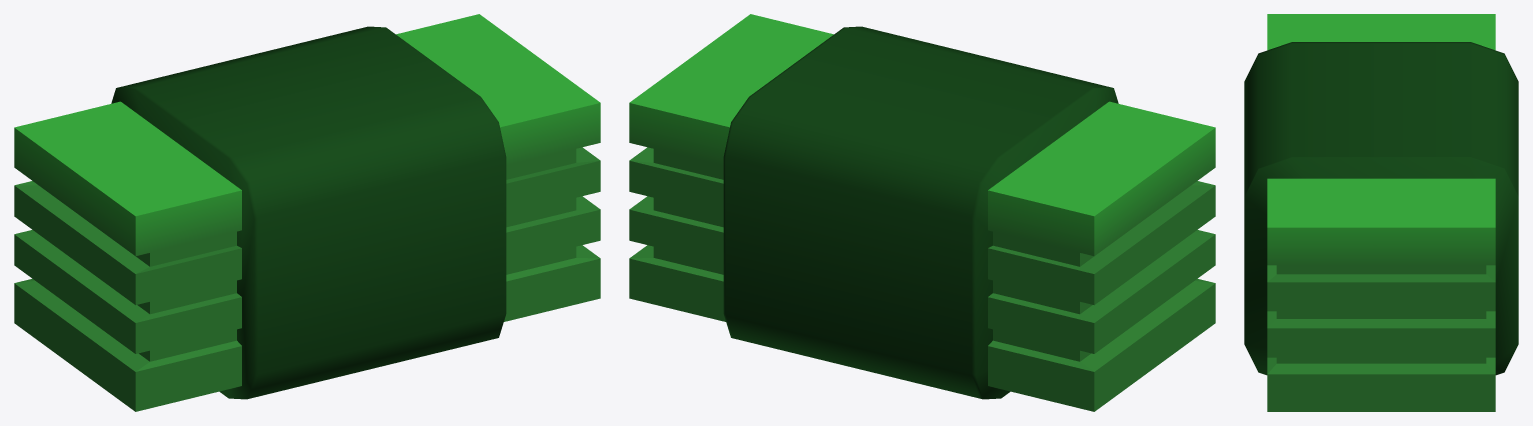
File: ДЕНЬГИ .fbx
3 views of the same model, side by side, from view 1: azimuth 30°, elevation 25°; view 2: azimuth 150°, elevation 25°; view 3: azimuth 270°, elevation 25° (orthographic). The views are drawn at different scales.
Visible parts, largest first — view 1: Cube.025; view 2: Cube.025; view 3: Cube.025.
Part boxes in pixels (x1,y1,x2,y2): Cube.025: (14, 14, 600, 411); Cube.025: (629, 14, 1215, 411); Cube.025: (1244, 14, 1518, 411).
Size of the model in its own units: 443 by 218 by 240.
